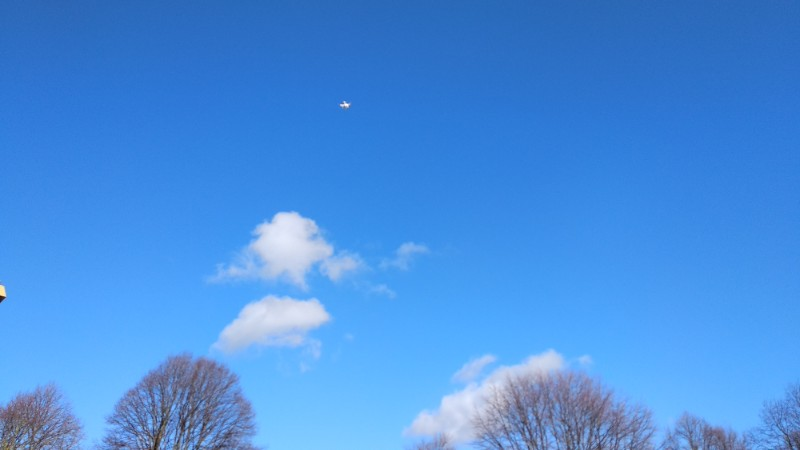drone: (338, 99, 351, 110)
